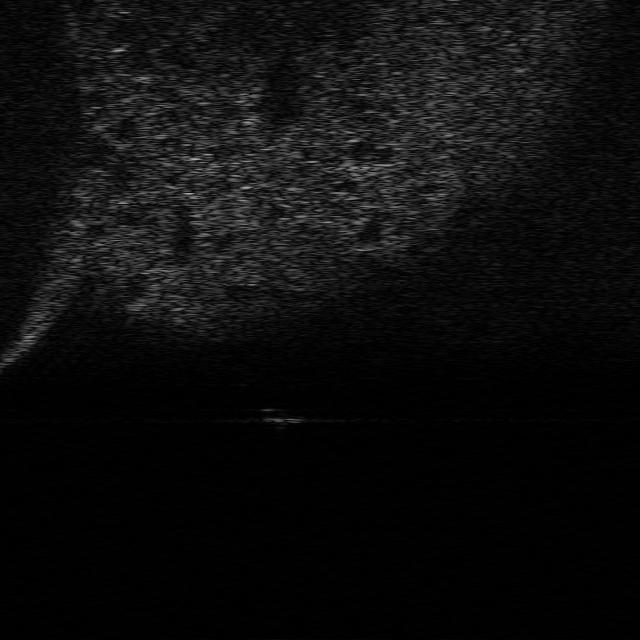cube: (255, 405, 306, 425)
